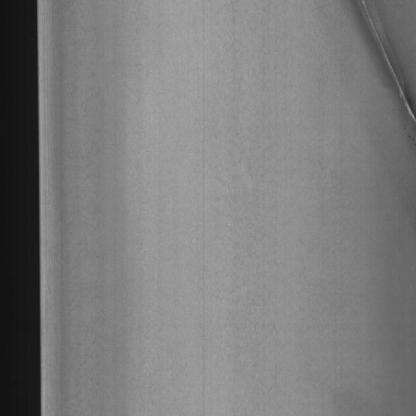crease: (336, 6, 416, 124)
